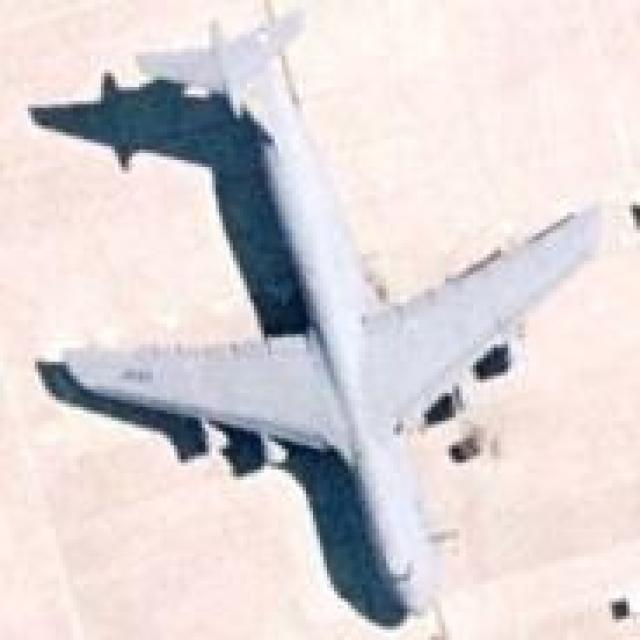C-5_TopDown: (25, 4, 602, 614)
